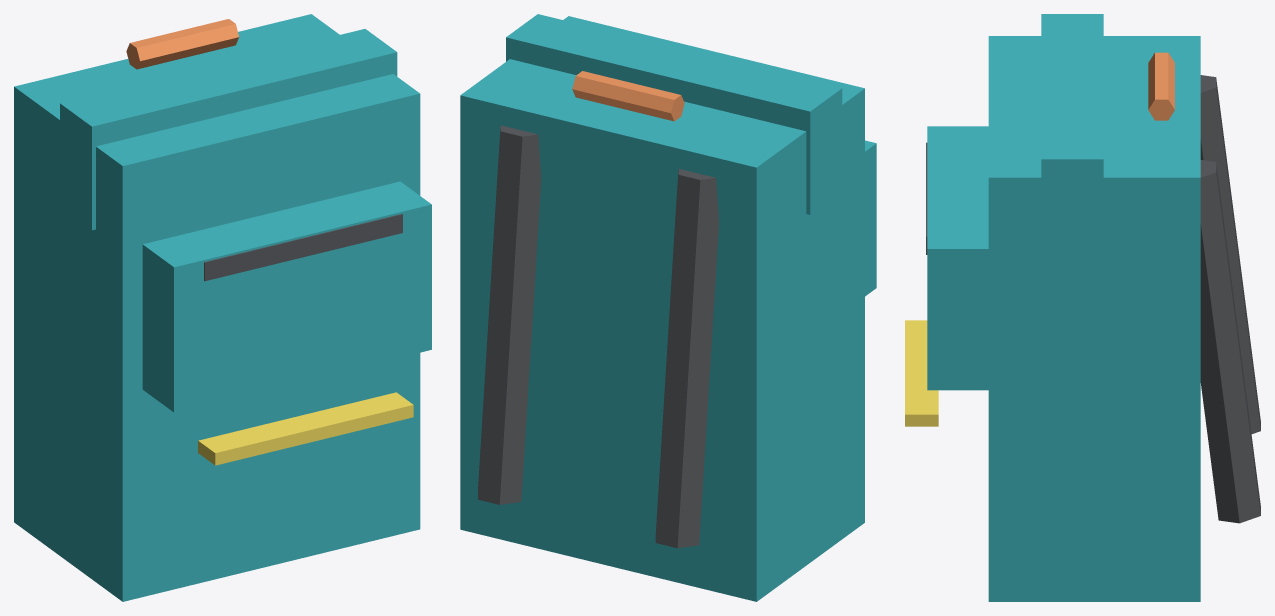
File: skate-park-and-street-sports-skate-backpack-81ef550e__33538.glb
3 views of the same model, side by side, from view 1: azimuth 30°, elevation 25°; view 2: azimuth 150°, elevation 25°; view 3: azimuth 270°, elevation 25° (orthographic). The views are drawn at different scales.
Parts seen in each view (by area): view 1: skate-backpack-teal, skate-backpack-canary, skate-backpack-charcoal, skate-backpack-sunset; view 2: skate-backpack-teal, skate-backpack-charcoal, skate-backpack-sunset; view 3: skate-backpack-teal, skate-backpack-charcoal, skate-backpack-canary, skate-backpack-sunset.
Part boxes in pixels (x1,y1,x2,y2): skate-backpack-teal: [14, 14, 431, 601]; skate-backpack-canary: [198, 392, 413, 465]; skate-backpack-charcoal: [204, 214, 402, 281]; skate-backpack-sunset: [126, 19, 238, 69]; skate-backpack-teal: [460, 14, 876, 601]; skate-backpack-charcoal: [478, 125, 718, 548]; skate-backpack-sunset: [572, 71, 684, 121]; skate-backpack-teal: [927, 14, 1200, 601]; skate-backpack-charcoal: [926, 75, 1260, 523]; skate-backpack-canary: [905, 320, 938, 426]; skate-backpack-sunset: [1148, 52, 1174, 120].
Size of the model in its own units: 0.308 by 0.4504 by 0.3189.
